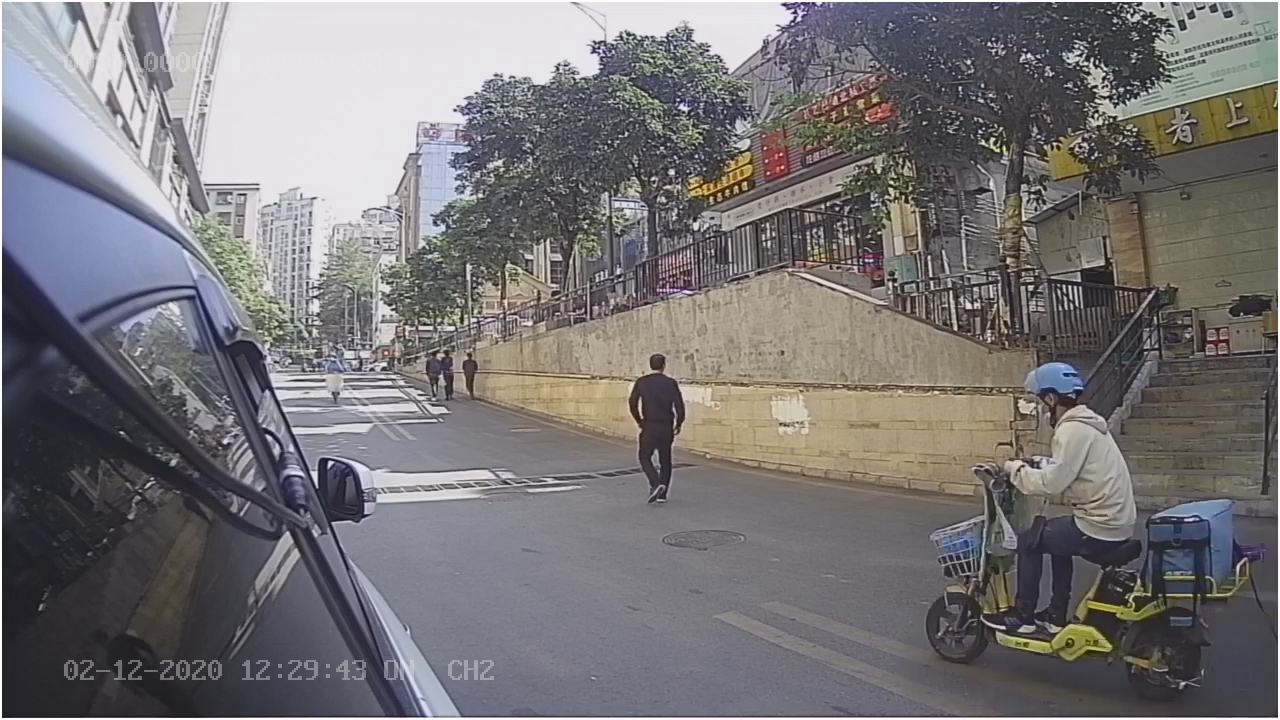person: (1001, 357, 1140, 501), (618, 344, 695, 522)
